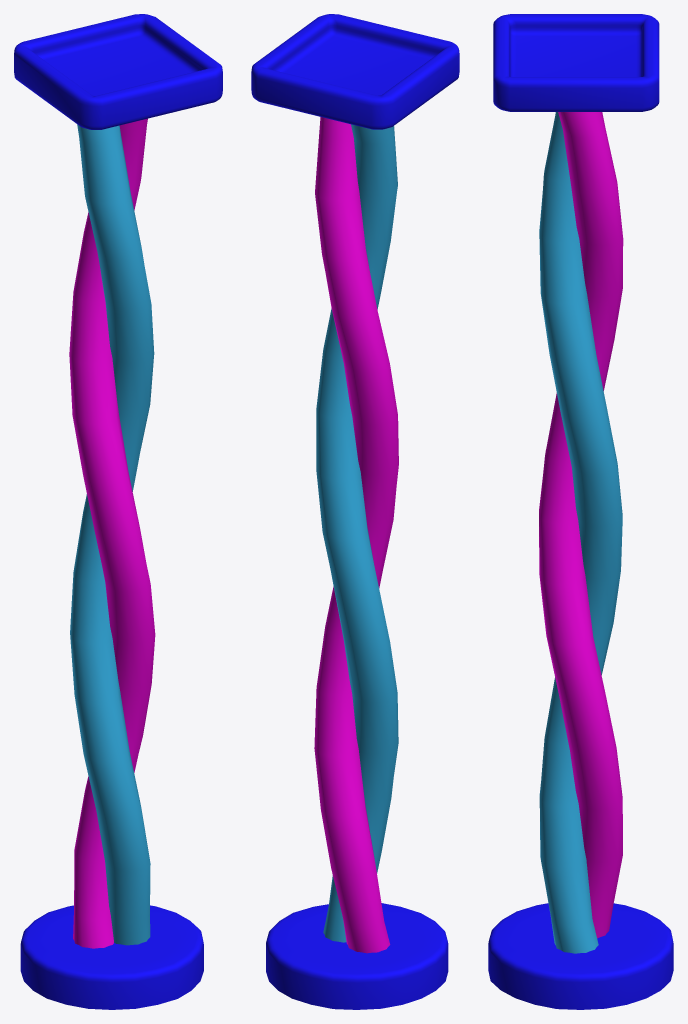
Rendered from Cenicero.fbx.
The picture shows the model from 3 angles, left to right: view 1: azimuth 30°, elevation 25°; view 2: azimuth 150°, elevation 25°; view 3: azimuth 270°, elevation 25°; orthographic projection.
Parts seen in each view (by area): view 1: cenicero; view 2: cenicero; view 3: cenicero.
Boxes of the visible parts, x1,y1,x2,y2 form: cenicero: (14,14,222,1009); cenicero: (251,14,459,1009); cenicero: (488,14,673,1009).
Bounding box in the file's own units: 0.5572 × 3.07 × 0.5572.
